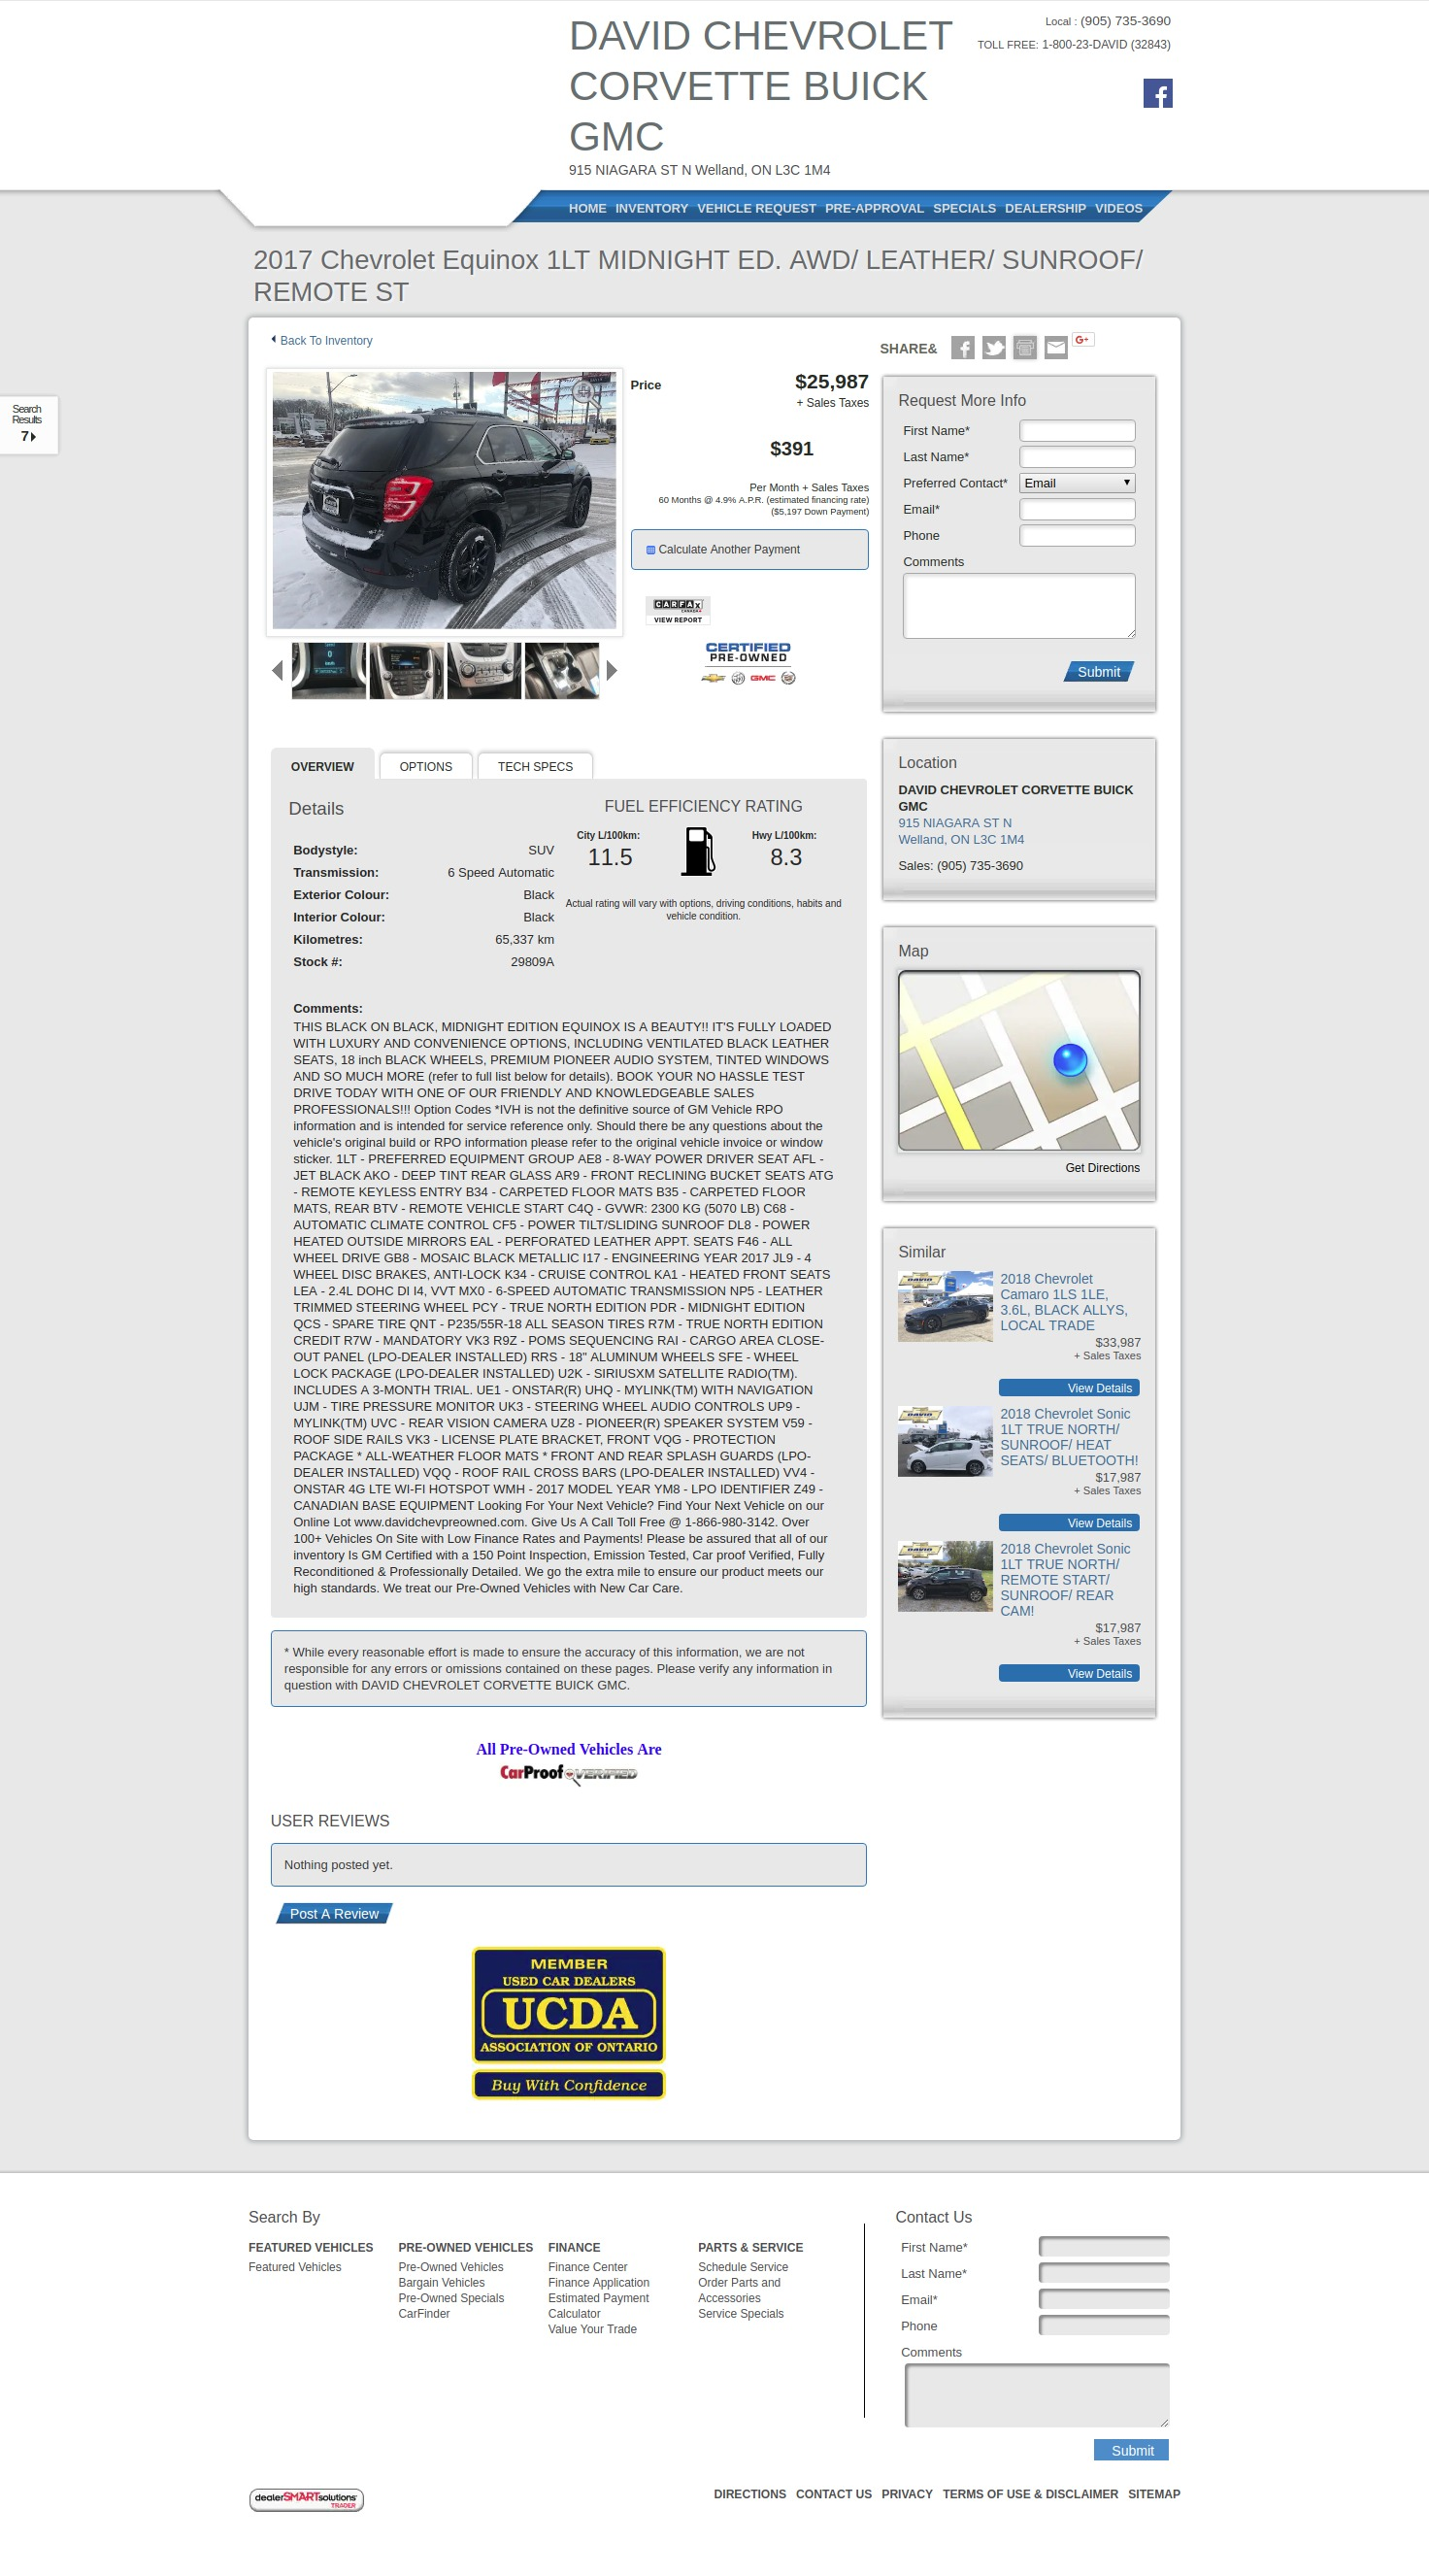car: (605, 660, 619, 683)
